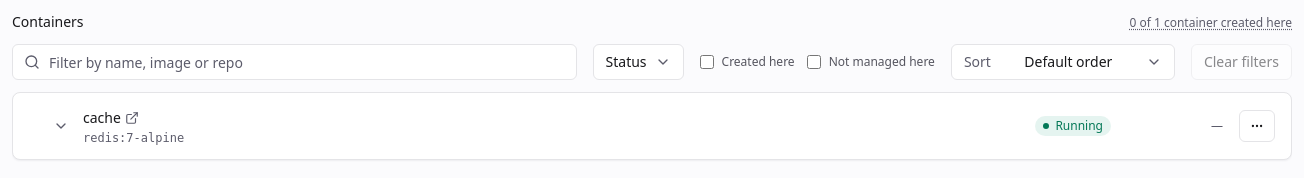
ContainerList › the usage total › says so in words when one scope answered and the other did not
The width and height of the screenshot is (1304, 178).
Hover over the button "0 of 1 container created here" at (1211, 23), box x1=1129 y1=15 x2=1292 y2=31
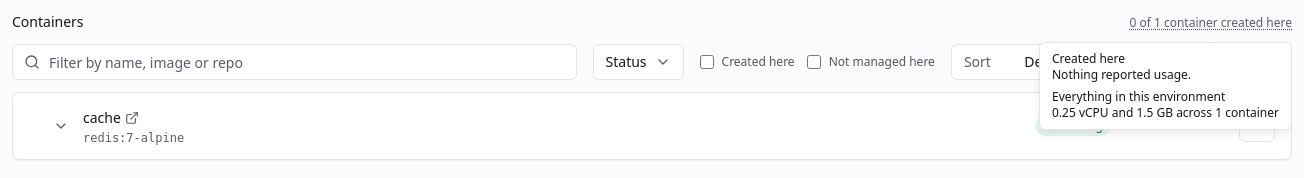
Check: the text "Nothing reported usage." is shown, box x1=1052 y1=66 x2=1191 y2=83
Check: the text "0.25 vCPU and 1.5 GB across 1 container" is shown, box x1=1052 y1=105 x2=1279 y2=121
